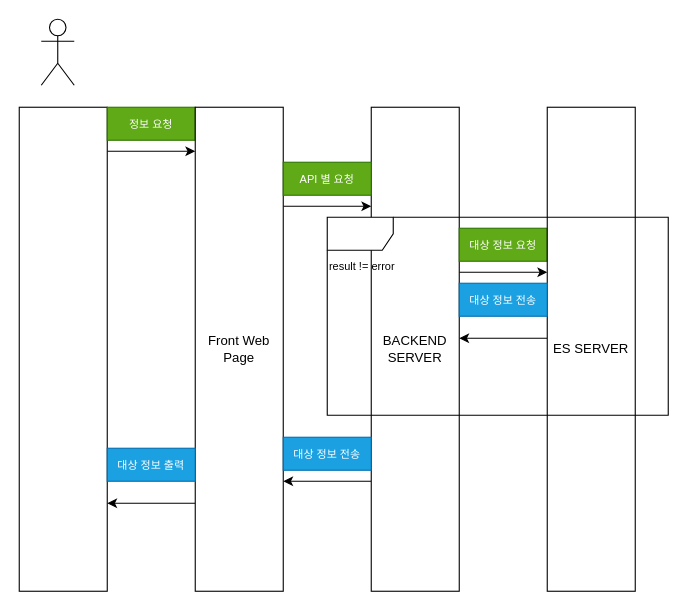
This 688x611 diagram has some shape labels left out. The box of each missing label's shape, as (x1, y1, x2, y2) in pixels:
Actor: (40, 18, 74, 85)
opt: (326, 216, 668, 415)
USER: (18, 106, 107, 591)
